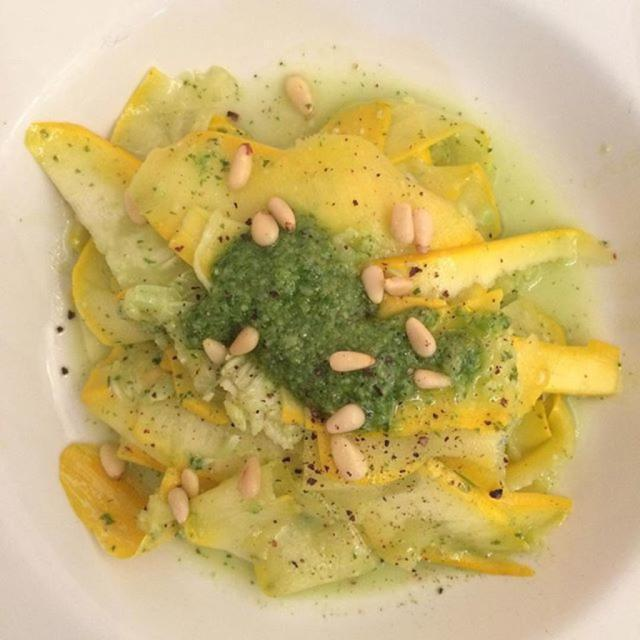Pasta: (30, 52, 618, 622)
